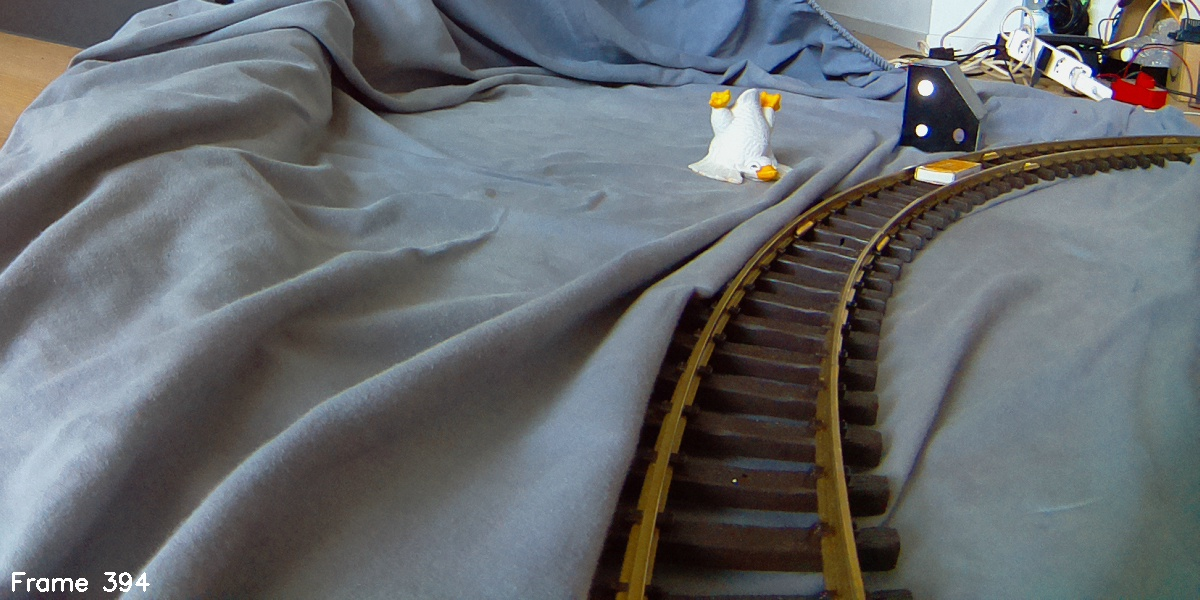Ente: (690, 86, 799, 194)
Fahrt: (900, 54, 983, 159)
